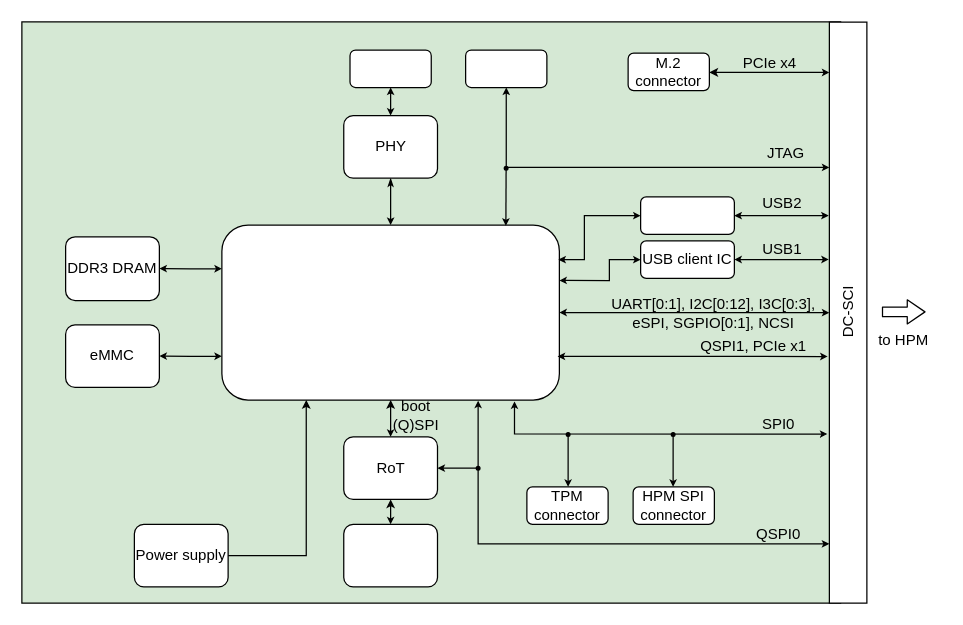
Image size: 963x625. Some labels were removed from this diagram. The box of each missing label's shape, as (x1, y1, x2, y2) in pixels:
ECP5UM5G-85 FPGA: (221, 224, 559, 400)
JTAG connector: (464, 49, 547, 88)
QSPI FLASH: (342, 523, 438, 587)
RJ45 connector: (349, 49, 431, 88)
USB host IC: (639, 196, 734, 234)
